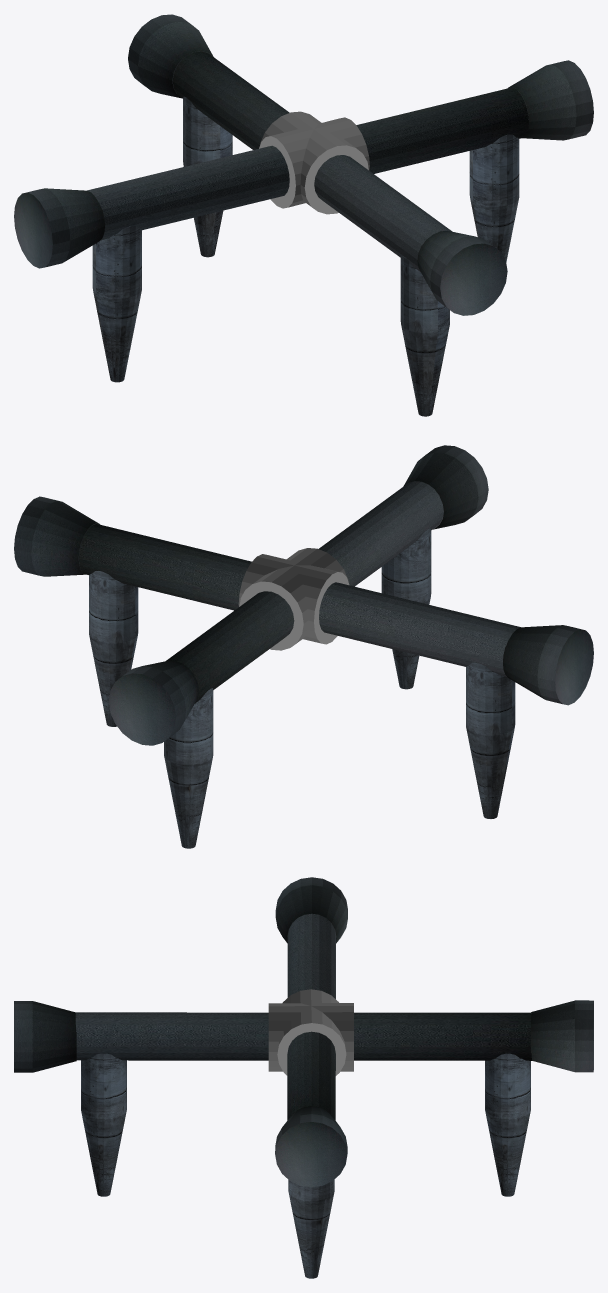
Rendered from pipe_4head.glb.
3 views of the same model, one above another, from view 1: azimuth 30°, elevation 25°; view 2: azimuth 150°, elevation 25°; view 3: azimuth 270°, elevation 25° (orthographic). The views are drawn at different scales.
Parts seen in each view (by area): view 1: Silindir1 (×2), Silindir (×4), Silindir2 (×2), Silindir4 (×2), Silindir3 (×2); view 2: Silindir1 (×2), Silindir (×4), Silindir3 (×2), Silindir2 (×2), Silindir4 (×2); view 3: Silindir1 (×2), Silindir (×4), Silindir3 (×2), Silindir2 (×2), Silindir4.
Boxes of the visible parts, x1=… form: Silindir1 (×2): x1=87, y1=51, x2=528, y2=272; Silindir (×4): x1=183, y1=96, x2=519, y2=261; Silindir2 (×2): x1=14, y1=188, x2=507, y2=315; Silindir4 (×2): x1=92, y1=226, x2=449, y2=416; Silindir3 (×2): x1=128, y1=14, x2=593, y2=140; Silindir1 (×2): x1=79, y1=481, x2=520, y2=703; Silindir (×4): x1=89, y1=548, x2=349, y2=848; Silindir3 (×2): x1=14, y1=496, x2=198, y2=745; Silindir2 (×2): x1=403, y1=445, x2=593, y2=705; Silindir4 (×2): x1=381, y1=528, x2=515, y2=818; Silindir1 (×2): x1=75, y1=913, x2=531, y2=1120; Silindir (×4): x1=268, y1=989, x2=530, y2=1278; Silindir3 (×2): x1=275, y1=1000, x2=593, y2=1187; Silindir2 (×2): x1=14, y1=877, x2=347, y2=1072; Silindir4: x1=81, y1=1053, x2=126, y2=1196.
Size of the model in its own units: 1.01 by 0.3649 by 1.01.
11 materials, 10 textured.
